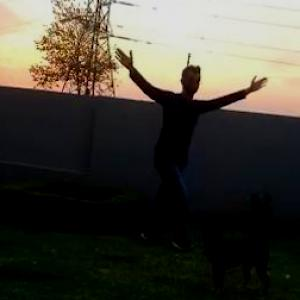takeoff: (114, 54, 260, 239)
